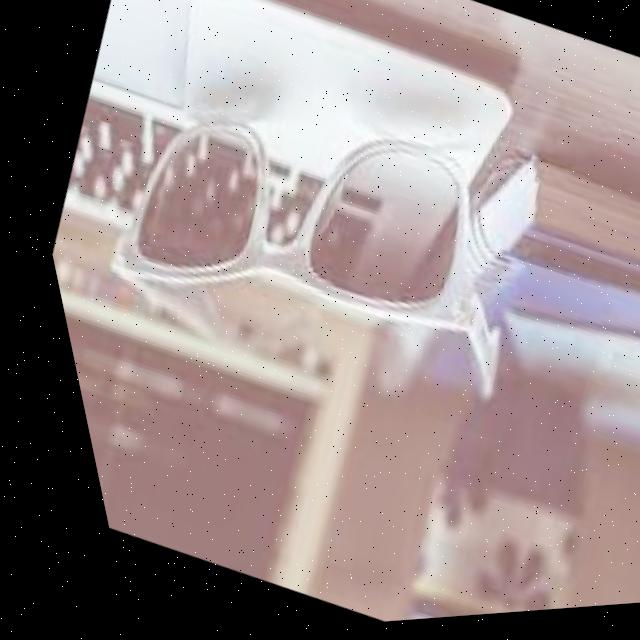gozluk: (42, 22, 545, 436)
